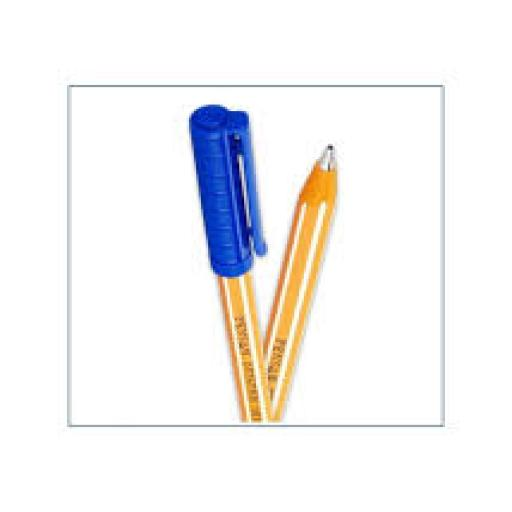tukenmez-kalem: (185, 98, 382, 316)
